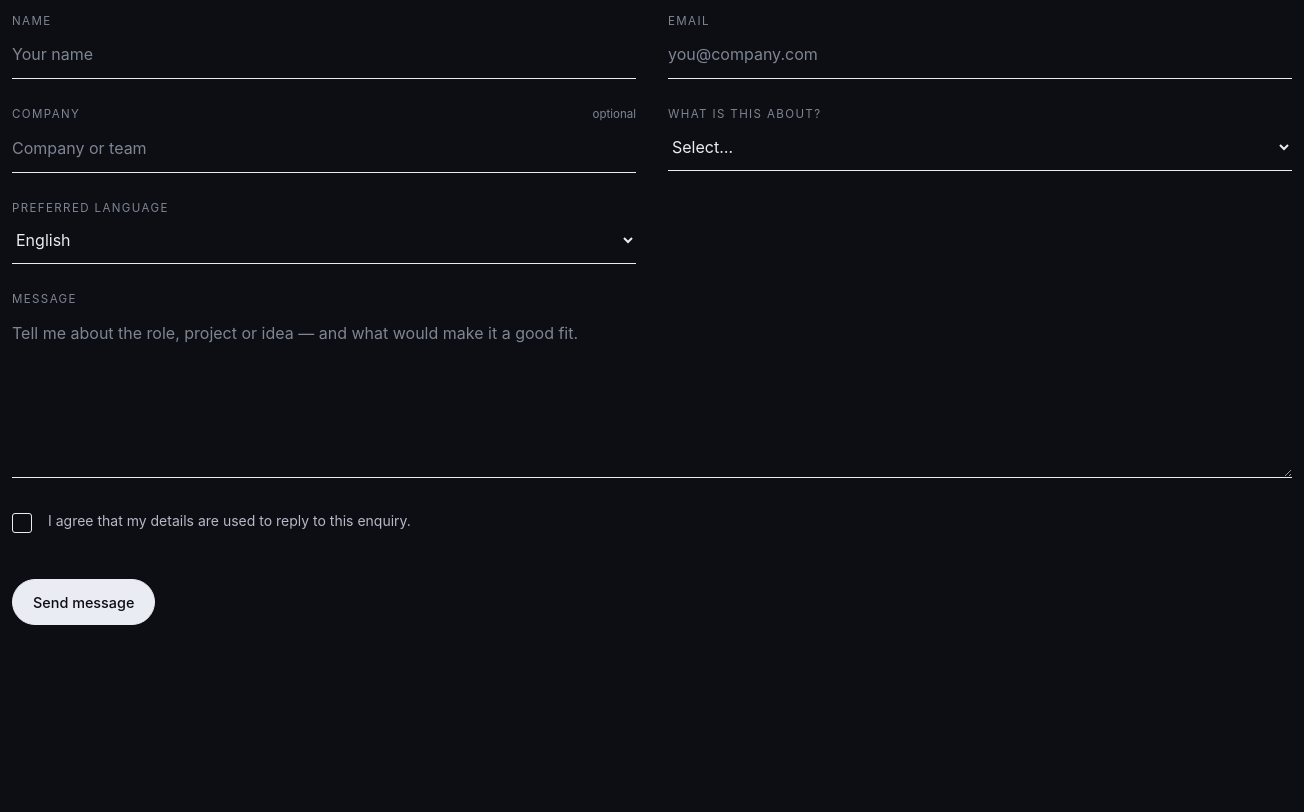
Test: ContactForm › submits valid data through the server action and shows the success state
Type "Ada Lovelace" into the field labelled "Name" at (324, 55), box [12,30,636,79]
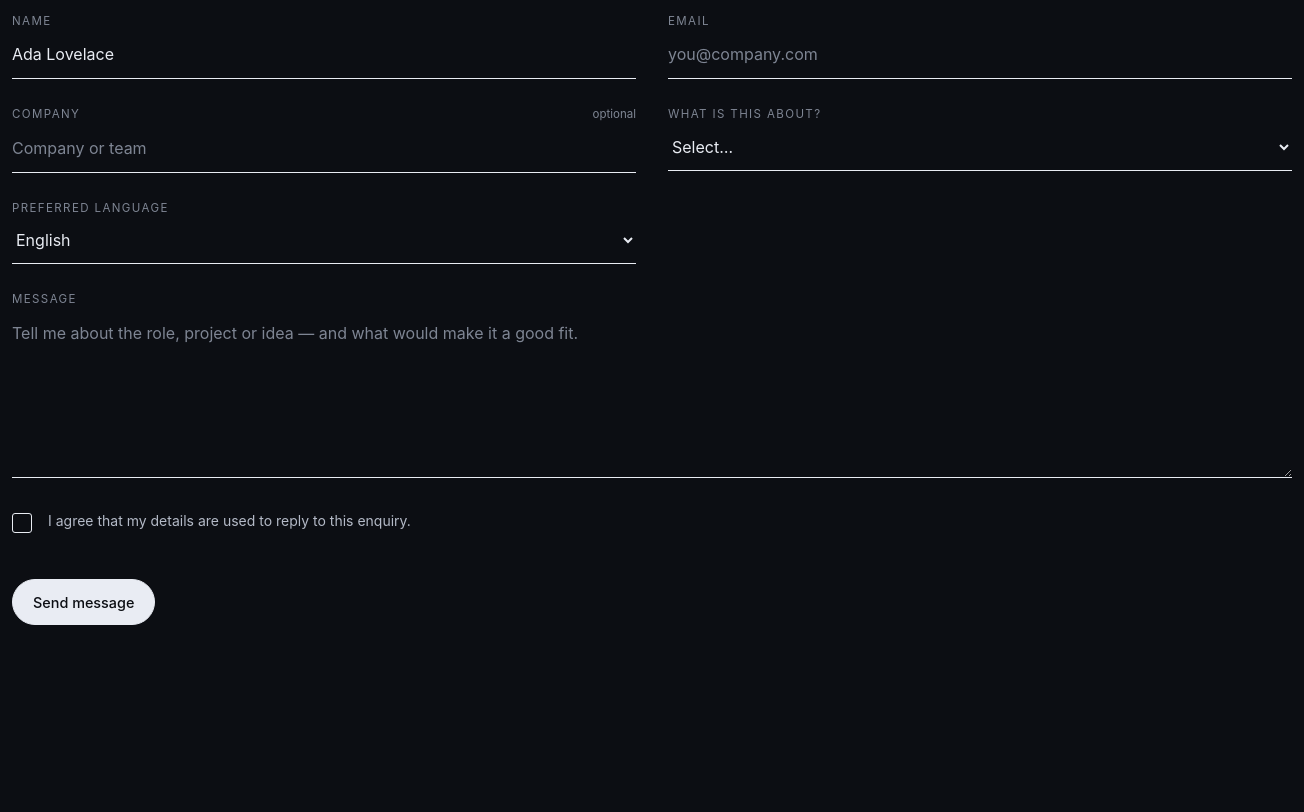
Type "ada@example.com" into the field labelled "Email" at (980, 55), box [668,30,1292,79]
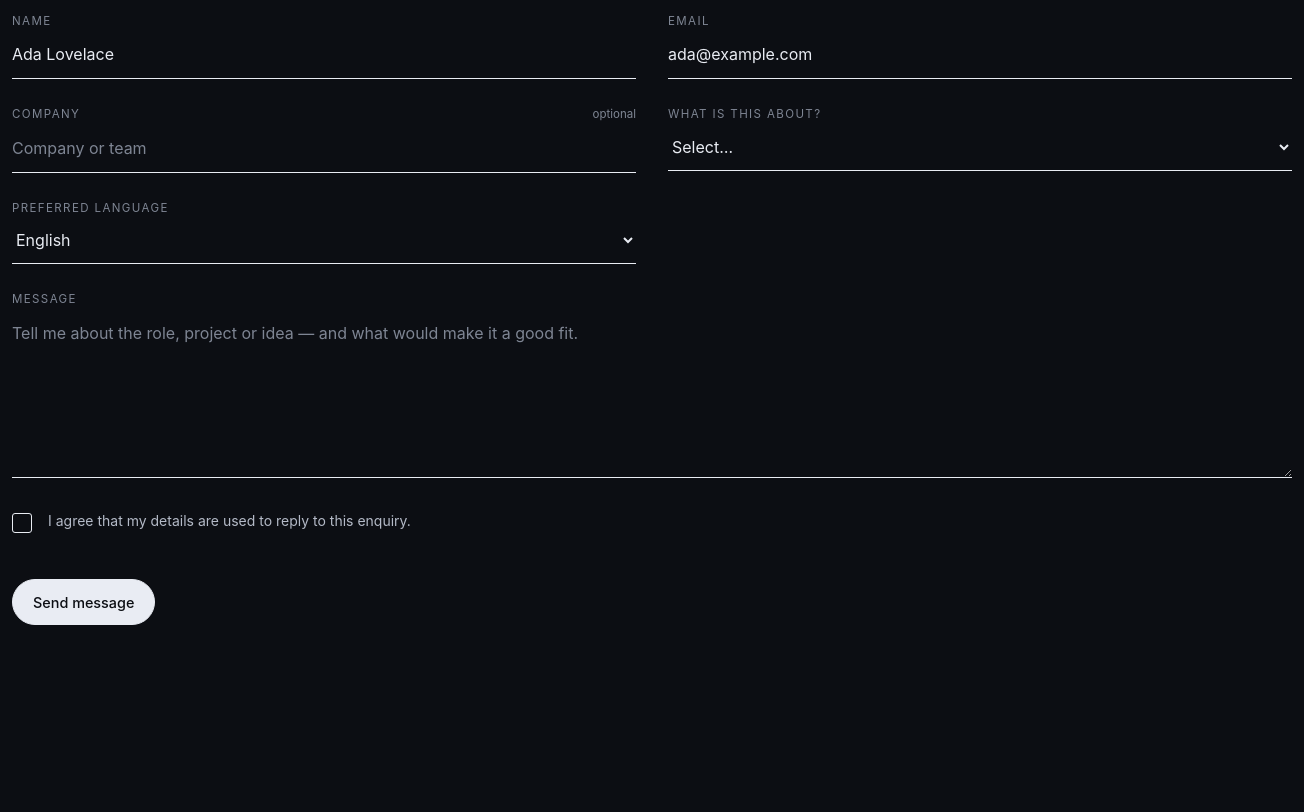
Select "Job opportunity" in the dropdown labelled "What is this about?" at (980, 147), box [668,124,1292,171]
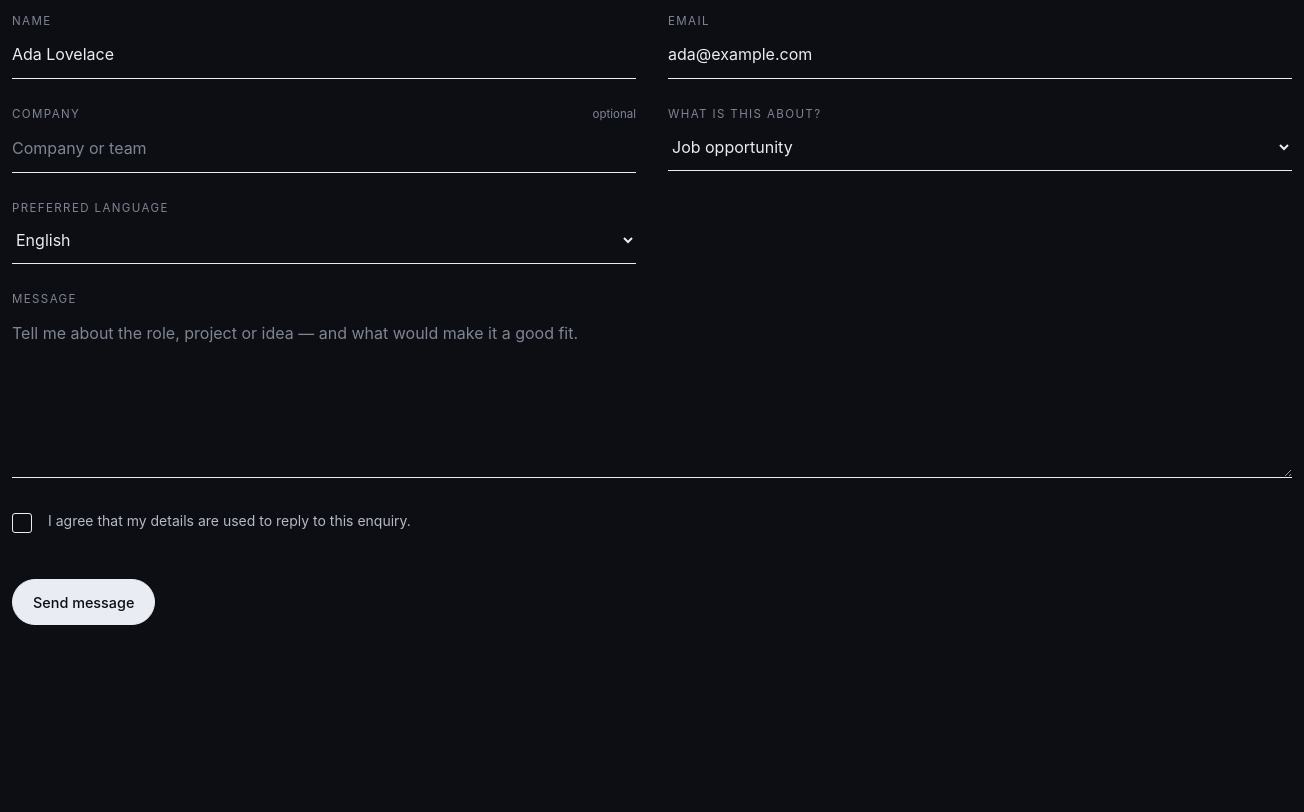
Replace the text in the text box labelled "Message" with "I would like to talk about a junior web development role in your team." at (652, 393), box [12,309,1292,478]
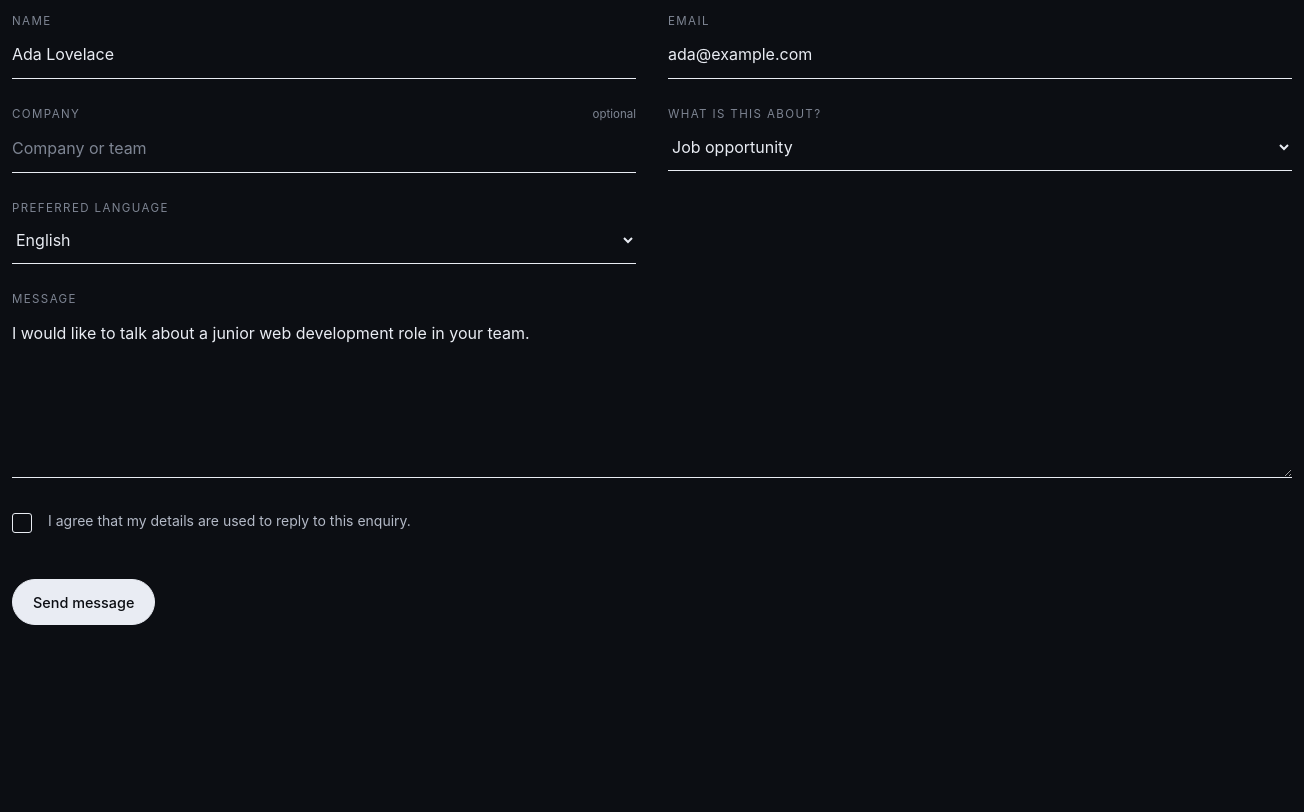
Click the checkbox labelled "I agree that my details are used to reply to this enquiry." at (211, 523), box [12,512,411,533]
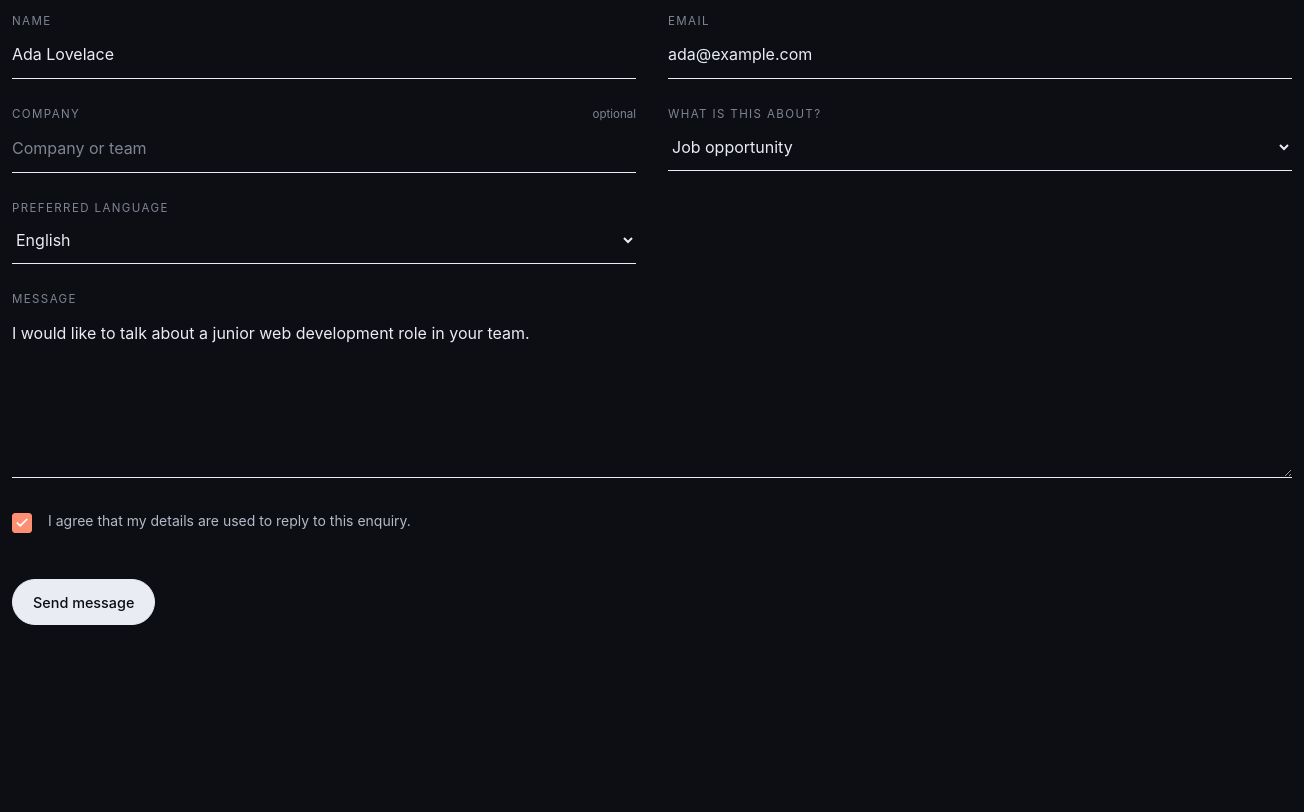
Submit the form
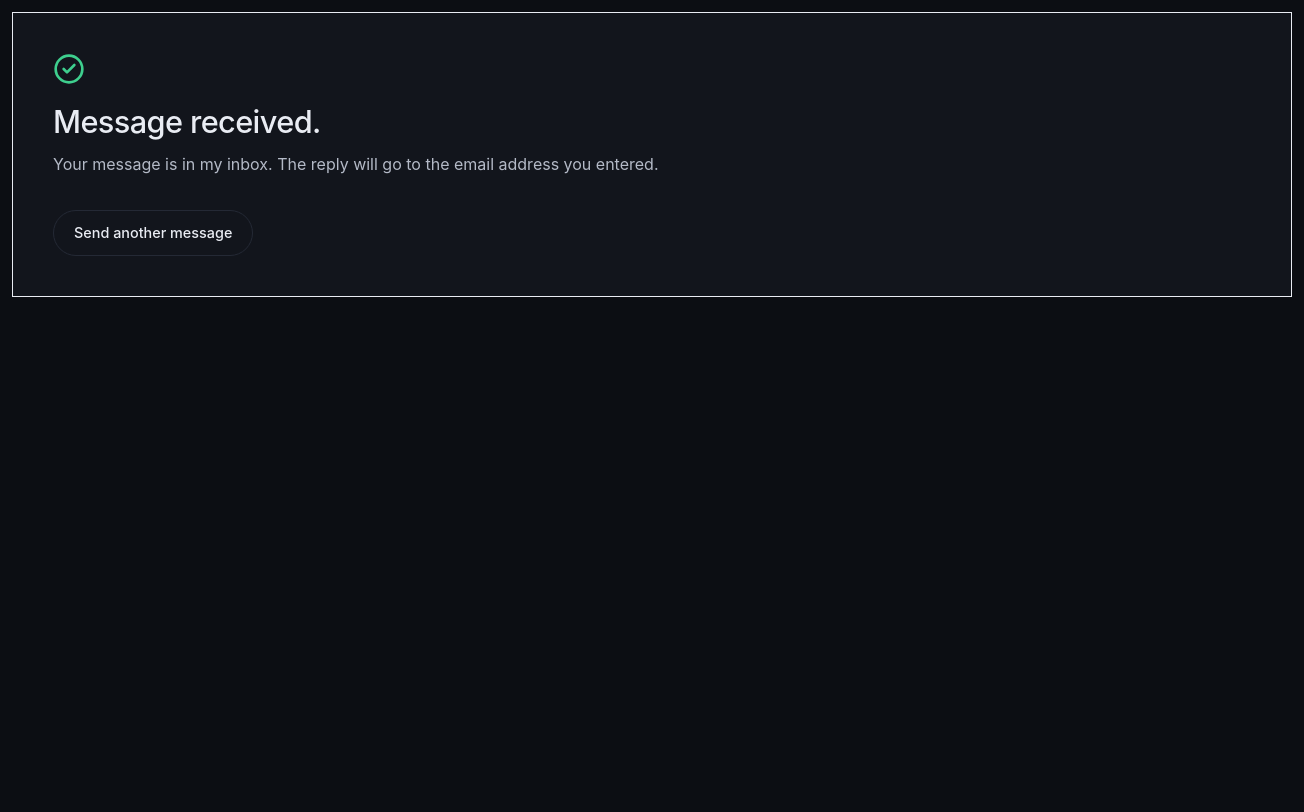
expect the heading "Message received." is shown: met, box [53,103,321,140]
